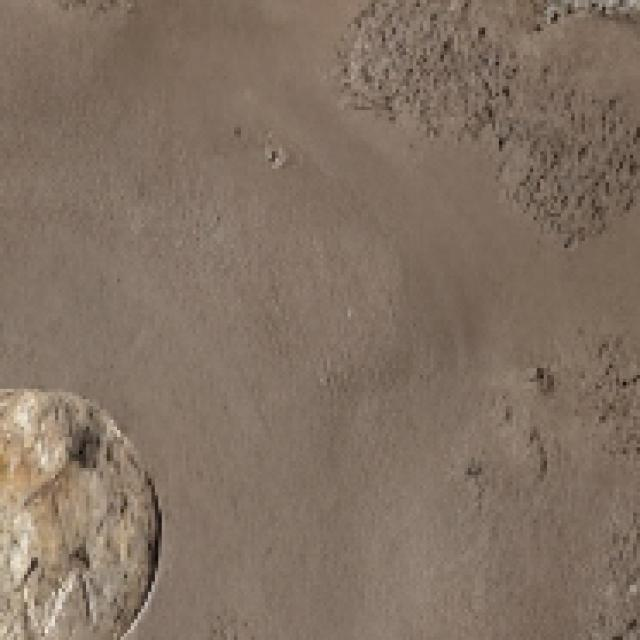Crater: (0, 389, 175, 640), (289, 0, 640, 58)
